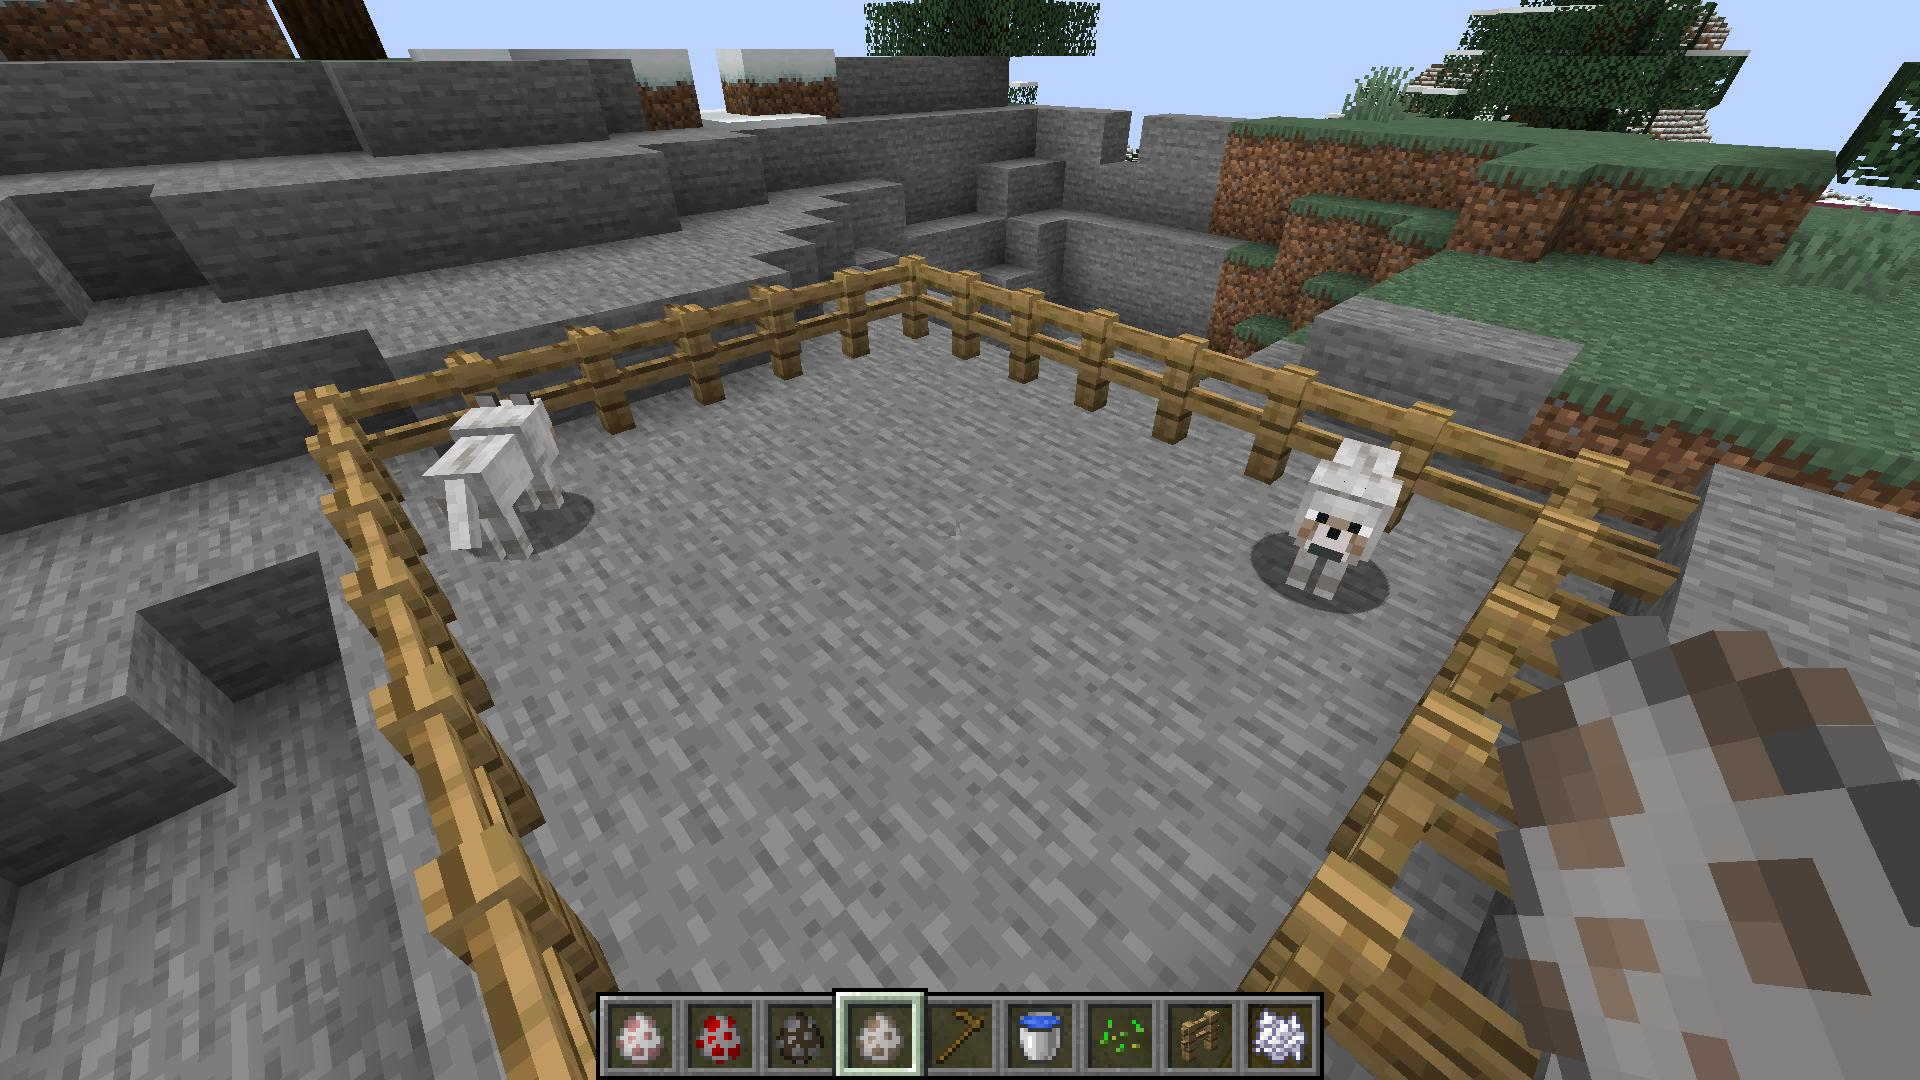wolf: (419, 390, 571, 563)
